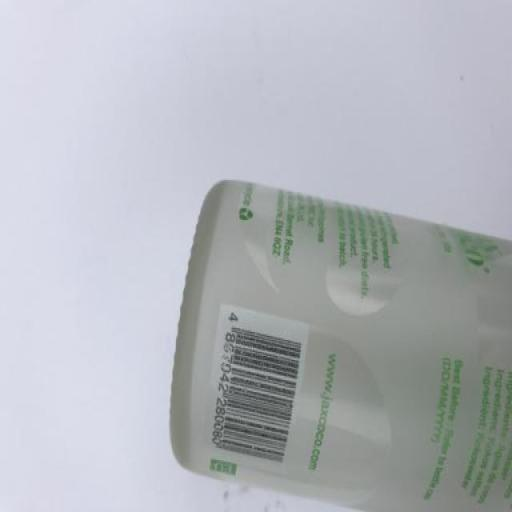glass: (151, 144, 512, 510)
